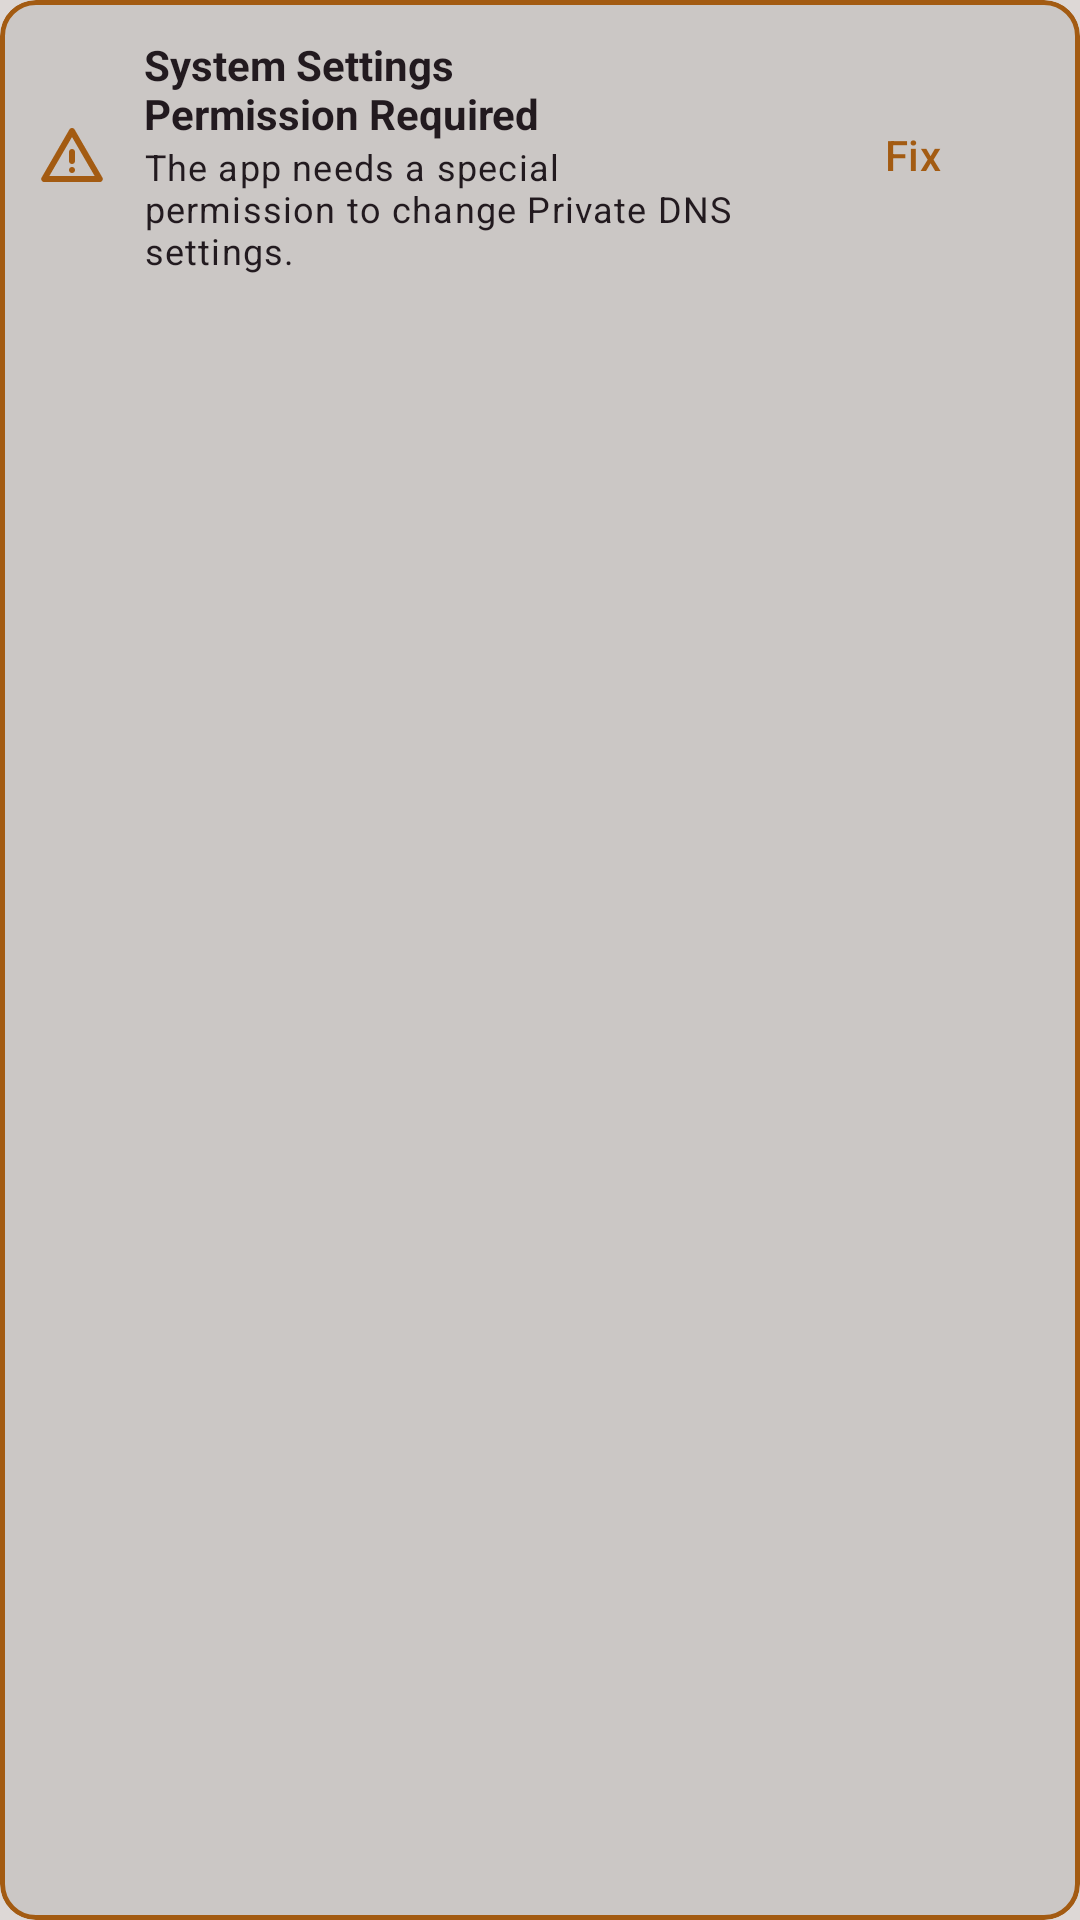

Screen size 1080×1920. Icon name, then its box in pixels as (x1, y1, x2, y2):
warning: (41, 128, 103, 182)
